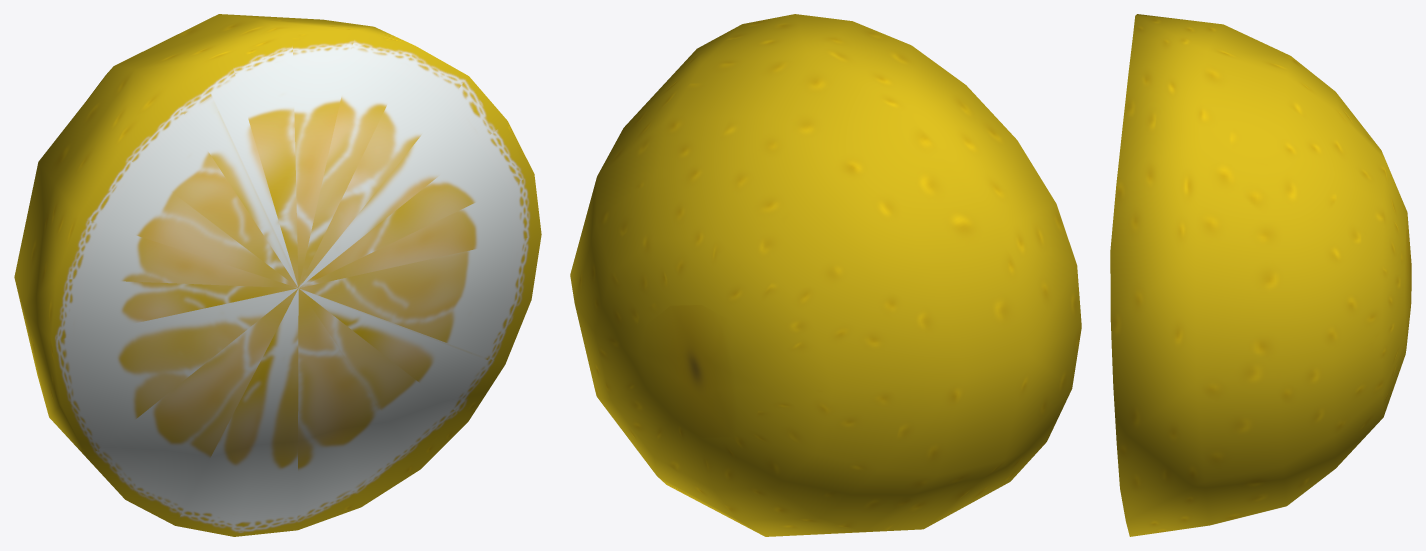
The model's file is orangeTopHalf.fbx.
The picture shows the model from 3 angles, left to right: view 1: azimuth 30°, elevation 25°; view 2: azimuth 150°, elevation 25°; view 3: azimuth 270°, elevation 25°; orthographic projection. The views are drawn at different scales.
Parts seen in each view (by area): view 1: orangeTopHalf; view 2: orangeTopHalf; view 3: orangeTopHalf.
Boxes of the visible parts, x1,y1,x2,y2 form: orangeTopHalf: (14, 14, 541, 536); orangeTopHalf: (570, 14, 1081, 536); orangeTopHalf: (1110, 14, 1411, 536).
Size of the model in its own units: 22.93 by 22.89 by 13.18.
